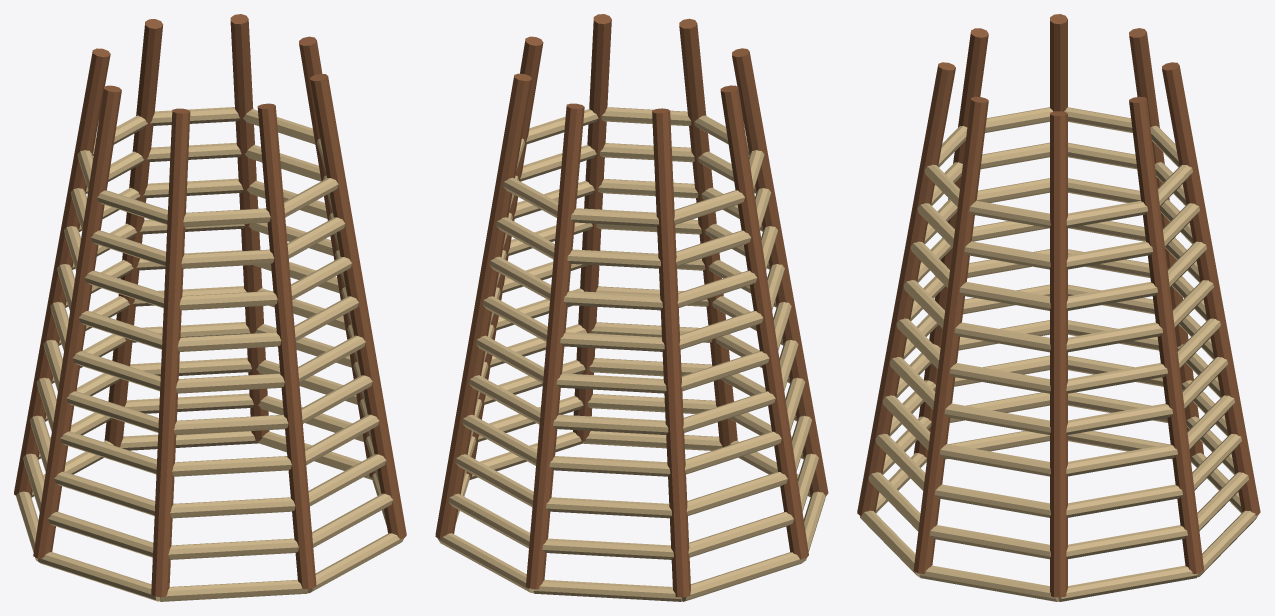
The model's file is 077_bamboo_fish_trap.glb.
3 renders of one model, left to right at view 1: azimuth 30°, elevation 25°; view 2: azimuth 150°, elevation 25°; view 3: azimuth 270°, elevation 25°, orthographic.
Visible parts, largest first — view 1: Bamboo fish trap; view 2: Bamboo fish trap; view 3: Bamboo fish trap.
Part boxes in pixels (left/top/right/bottom): Bamboo fish trap: left=14, top=14, right=406, bottom=601; Bamboo fish trap: left=435, top=14, right=828, bottom=601; Bamboo fish trap: left=857, top=14, right=1260, bottom=601.
Bounding box in the file's own units: 1.05 × 1.3 × 1.05.
